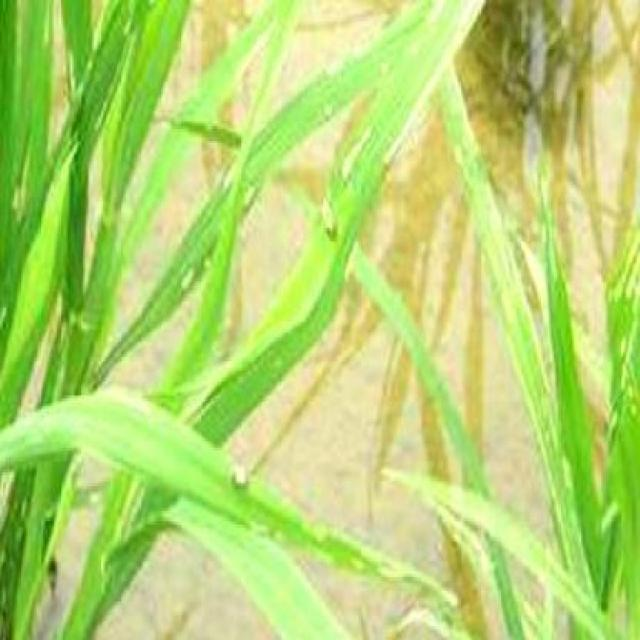rice-bug: (315, 196, 340, 242), (231, 452, 252, 490)
